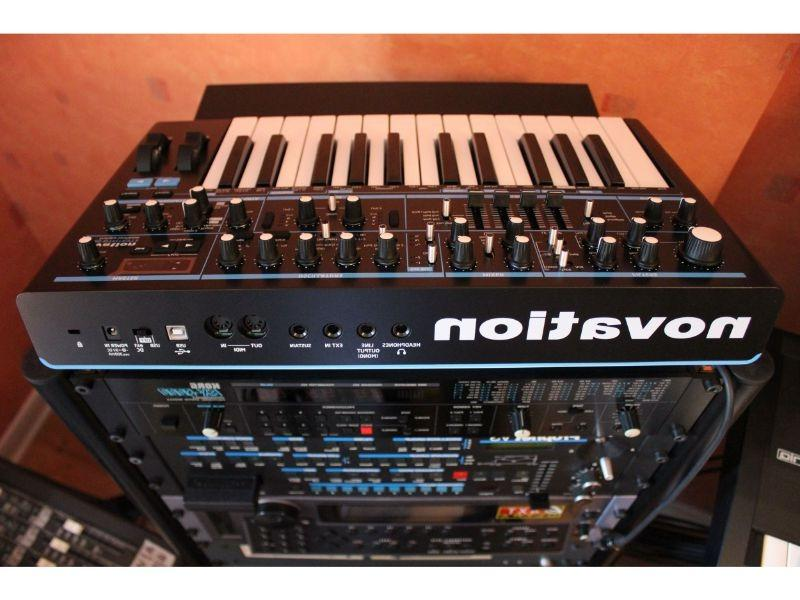synthesizer: (29, 114, 766, 370)
